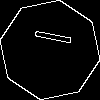I: (25, 25, 72, 48)
